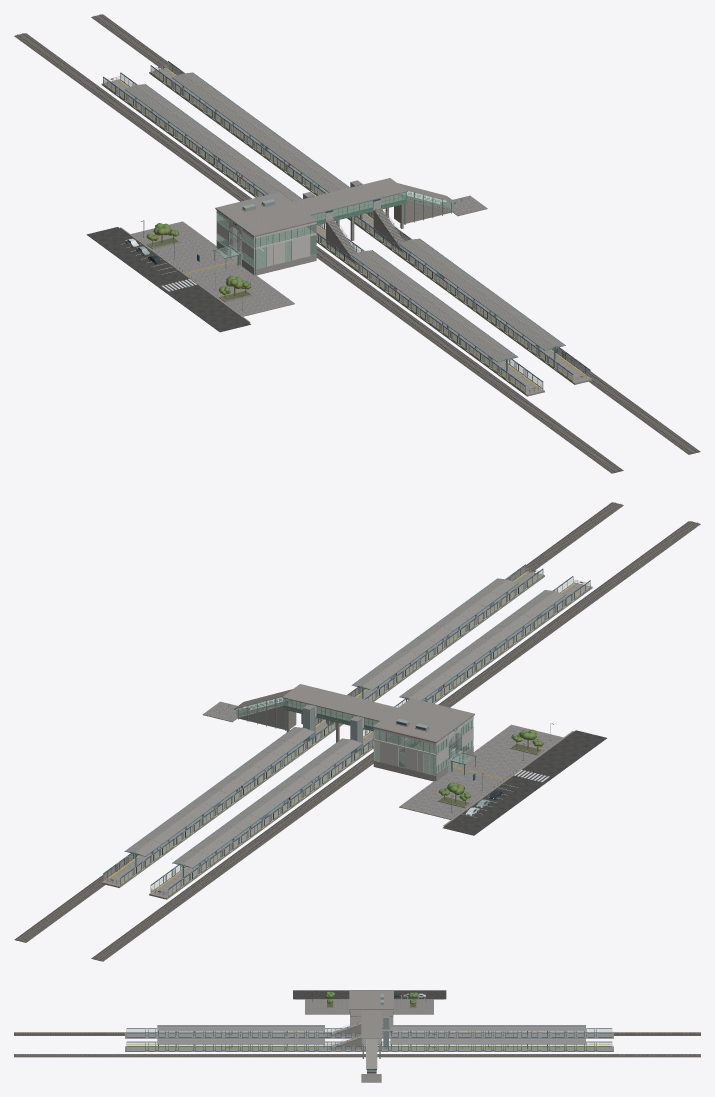
The model's file is Line4_SingilOncheon_Game.fbx.
3 renders of one model, top to bottom at view 1: azimuth 30°, elevation 25°; view 2: azimuth 150°, elevation 25°; view 3: azimuth 270°, elevation 25°, orthographic. The views are drawn at different scales.
Visible parts, largest first — view 1: Canopy_Station, South_Forecourt_Station, Rails_Station, Platforms_Station, PSD_Static_Station, South_Headhouse_Station, Glazed_Cross_Concourse_Station, North_Entrance_Station, Platform_Station, Platform_Stairs_Station; view 2: Canopy_Station, South_Forecourt_Station, Rails_Station, Platforms_Station, PSD_Static_Station, South_Headhouse_Station, Glazed_Cross_Concourse_Station, North_Entrance_Station, Platform_Station, Elevators_Station; view 3: PSD_Static_Station, Canopy_Station, Platforms_Station, Rails_Station, South_Forecourt_Station, South_Headhouse_Station, Platform_Station, Glazed_Cross_Concourse_Station, Platform_Stairs_Station, North_Entrance_Station, Elevators_Station.
Part boxes in pixels (left/top/right/bottom): Canopy_Station: left=124, top=72, right=565, bottom=371; South_Forecourt_Station: left=86, top=220, right=294, bottom=332; Rails_Station: left=14, top=14, right=700, bottom=473; Platforms_Station: left=101, top=68, right=592, bottom=396; PSD_Static_Station: left=103, top=61, right=590, bottom=393; South_Headhouse_Station: left=213, top=192, right=317, bottom=275; Glazed_Cross_Concourse_Station: left=292, top=178, right=407, bottom=240; North_Entrance_Station: left=394, top=183, right=487, bottom=224; Platform_Station: left=103, top=64, right=590, bottom=393; Platform_Stairs_Station: left=326, top=198, right=408, bottom=264; Canopy_Station: left=124, top=578, right=565, bottom=877; South_Forecourt_Station: left=399, top=723, right=606, bottom=835; Rails_Station: left=14, top=502, right=700, bottom=961; Platforms_Station: left=101, top=571, right=592, bottom=899; PSD_Static_Station: left=103, top=564, right=590, bottom=897; South_Headhouse_Station: left=372, top=698, right=476, bottom=781; Glazed_Cross_Concourse_Station: left=282, top=684, right=397, bottom=746; North_Entrance_Station: left=202, top=689, right=296, bottom=730; Platform_Station: left=103, top=568, right=590, bottom=896; Elevators_Station: left=302, top=704, right=363, bottom=753; PSD_Static_Station: left=126, top=1028, right=612, bottom=1051; Canopy_Station: left=157, top=1025, right=585, bottom=1048; Platforms_Station: left=125, top=1033, right=613, bottom=1051; Rails_Station: left=14, top=1032, right=700, bottom=1057; South_Forecourt_Station: left=293, top=990, right=446, bottom=1014; South_Headhouse_Station: left=349, top=991, right=393, bottom=1031; Platform_Station: left=127, top=1030, right=612, bottom=1051; Glazed_Cross_Concourse_Station: left=361, top=1010, right=381, bottom=1058; Platform_Stairs_Station: left=327, top=1021, right=361, bottom=1049; North_Entrance_Station: left=361, top=1039, right=381, bottom=1082; Elevators_Station: left=382, top=1016, right=388, bottom=1049.
Size of the model in its own units: 9554 by 1215 by 30200.
